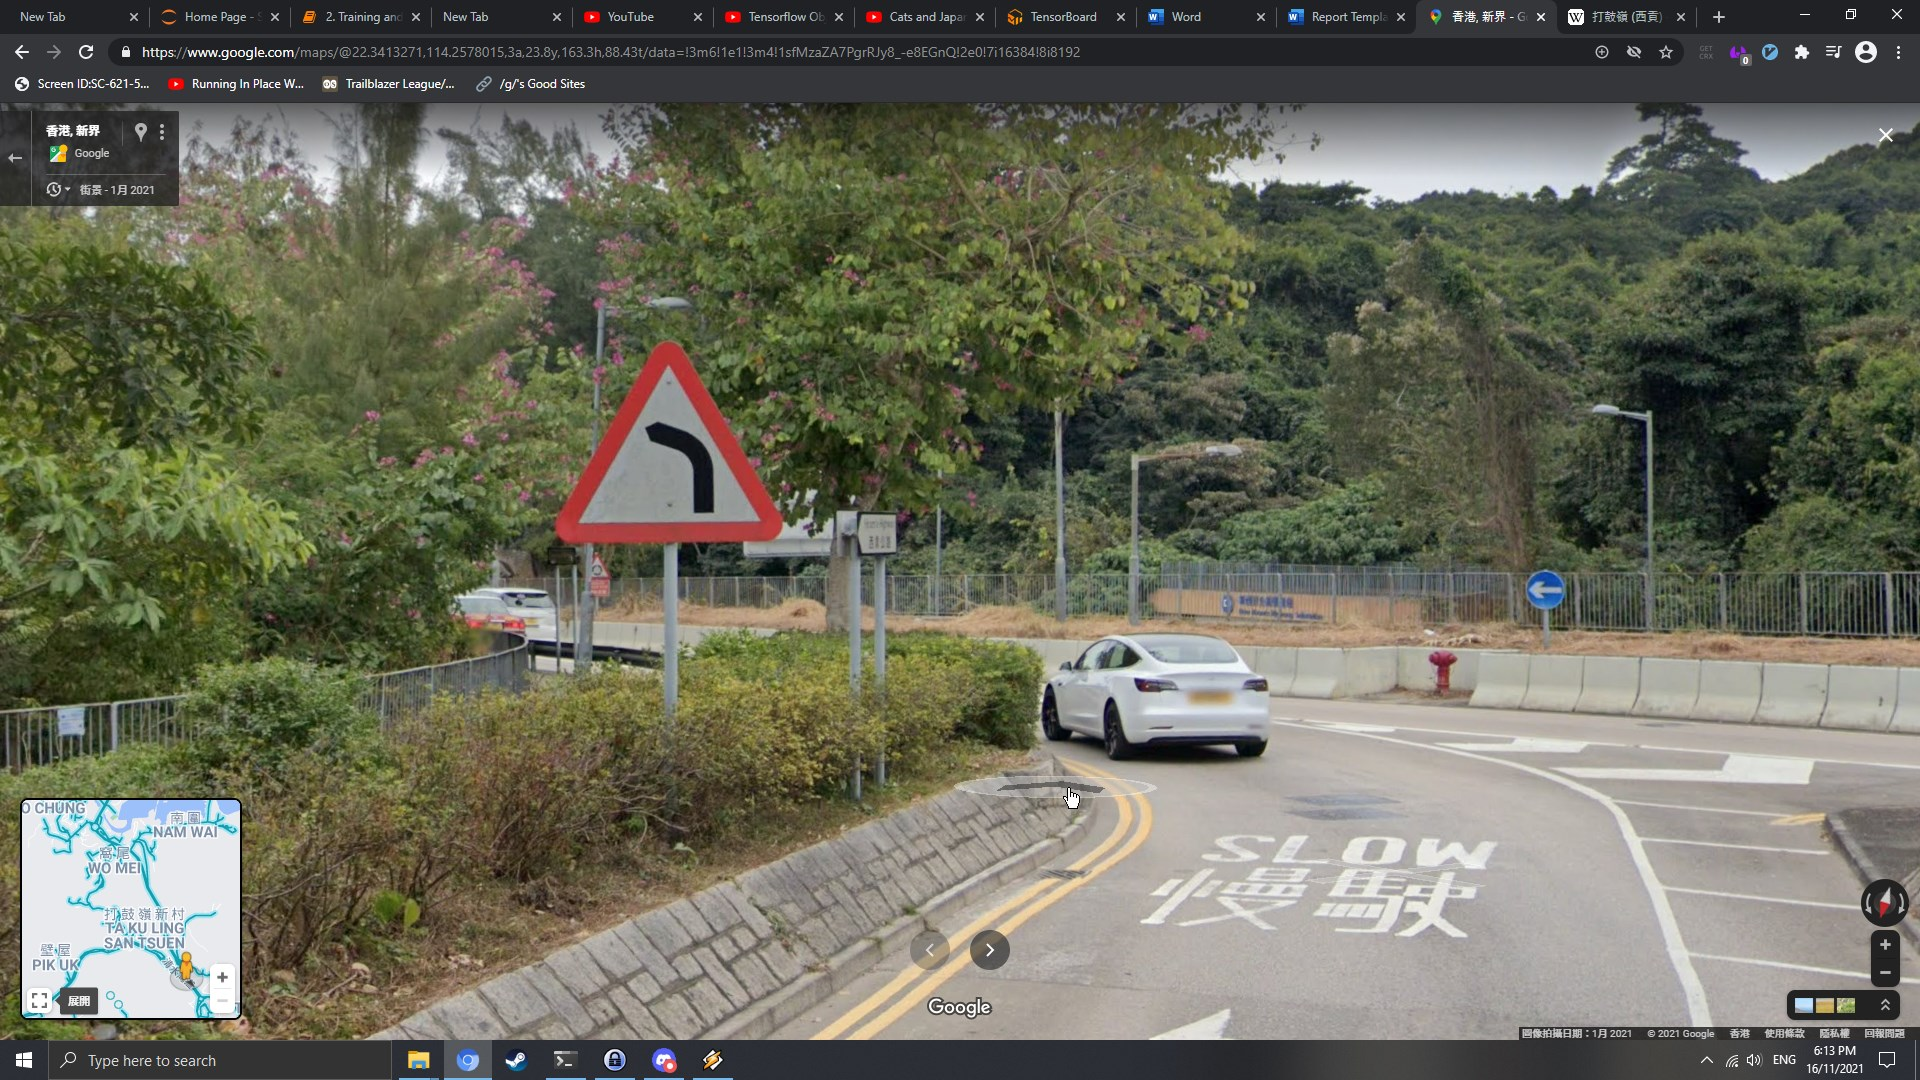BendToLeft: (554, 342, 783, 545)
